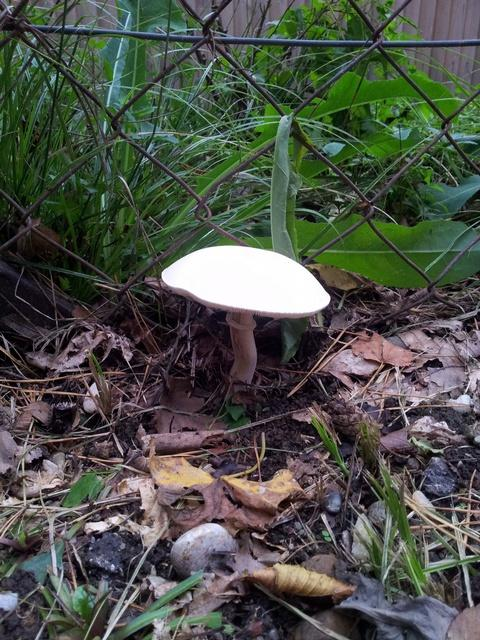Non-edible Mushroom: (159, 243, 331, 397)
